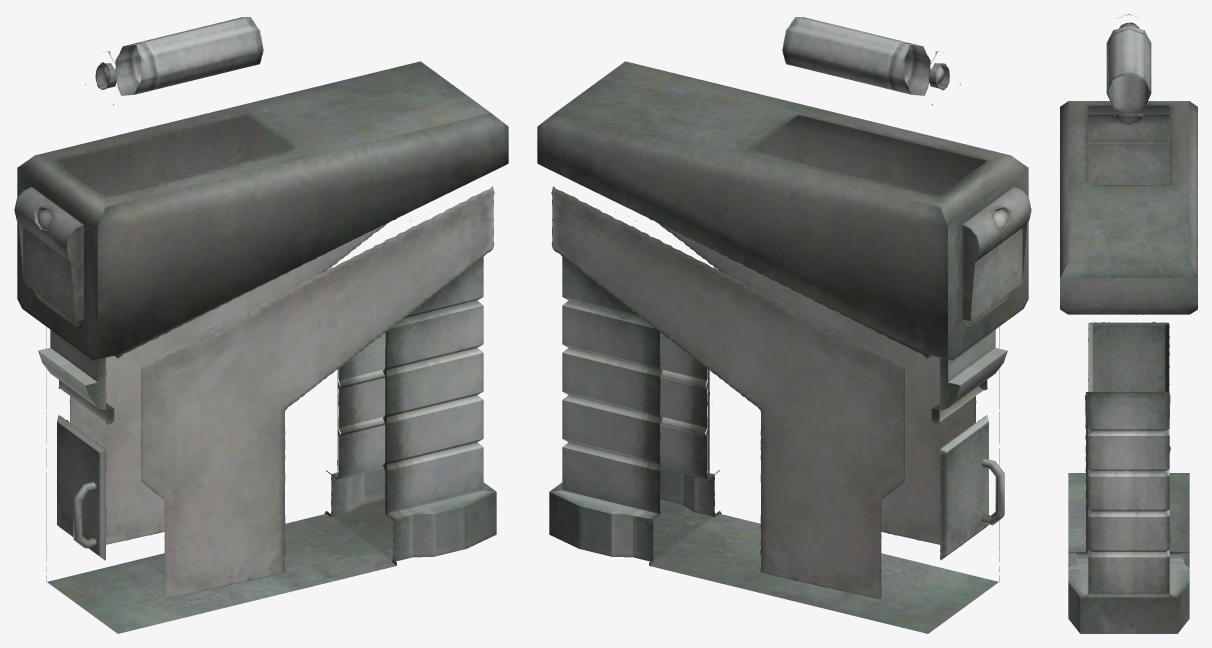
The model's file is eqp_comp_ammo_missile_l0.fbx.
3 renders of one model, left to right at view 1: azimuth 30°, elevation 25°; view 2: azimuth 150°, elevation 25°; view 3: azimuth 270°, elevation 25°, orthographic. The views are drawn at different scales.
Parts seen in each view (by area): view 1: mesh_node; view 2: mesh_node; view 3: mesh_node.
Part boxes in pixels (left/top/right/bottom): mesh_node: left=14, top=17, right=508, bottom=633; mesh_node: left=537, top=17, right=1031, bottom=633; mesh_node: left=1060, top=14, right=1197, bottom=633.
Size of the model in its own units: 0.8039 by 0.9873 by 0.2623.
Materials: 1 (1 with a texture image).
